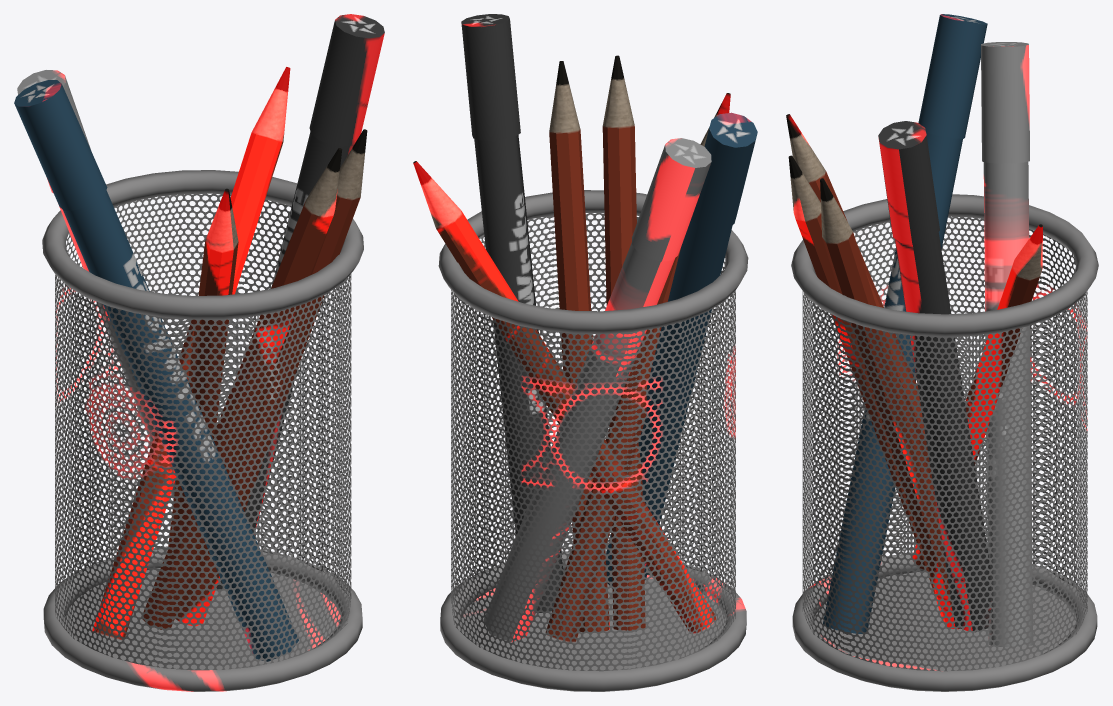
Rendered from SM_PenHolderMetalS.fbx.
3 views of the same model, side by side, from view 1: azimuth 30°, elevation 25°; view 2: azimuth 150°, elevation 25°; view 3: azimuth 270°, elevation 25° (orthographic). The views are drawn at different scales.
Parts seen in each view (by area): view 1: SM_PenHolderMetalS_LOD0; view 2: SM_PenHolderMetalS_LOD0; view 3: SM_PenHolderMetalS_LOD0.
Part boxes in pixels (left/top/right/bottom): SM_PenHolderMetalS_LOD0: left=14, top=14, right=384, bottom=691; SM_PenHolderMetalS_LOD0: left=413, top=14, right=757, bottom=691; SM_PenHolderMetalS_LOD0: left=786, top=14, right=1098, bottom=691.
Size of the model in its own units: 13.19 by 11.26 by 22.39.
Materials: 1 (1 with a texture image).
